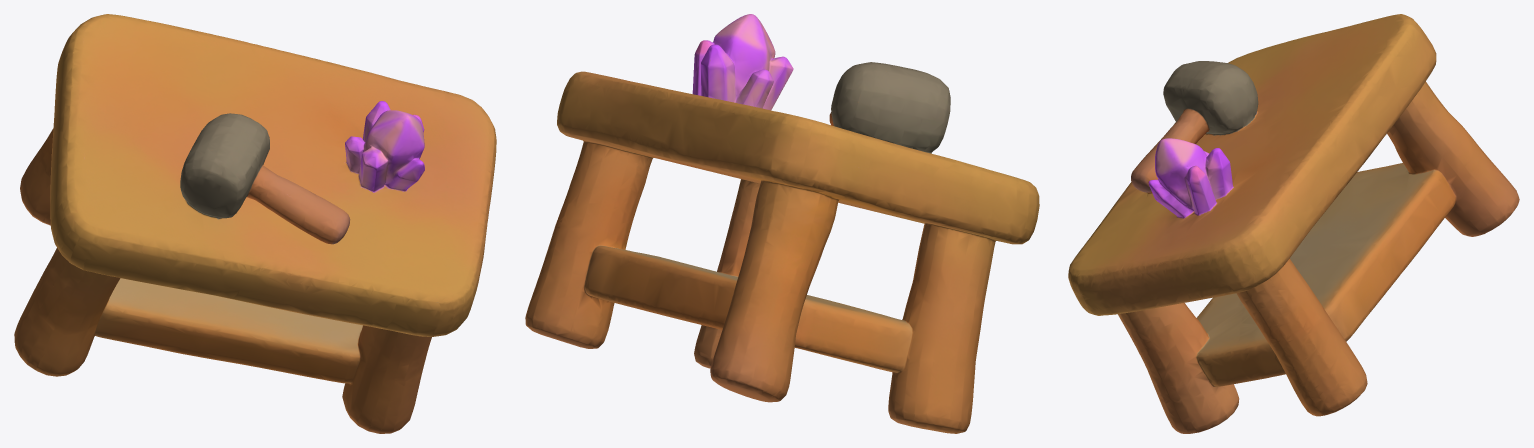
File: workbench.glb
3 views of the same model, side by side, from view 1: azimuth 30°, elevation 25°; view 2: azimuth 150°, elevation 25°; view 3: azimuth 270°, elevation 25° (orthographic). The views are drawn at different scales.
Bounding box in the file's own units: 0.8848 × 0.7221 × 0.8842.
Materials: 1 (1 with a texture image).
